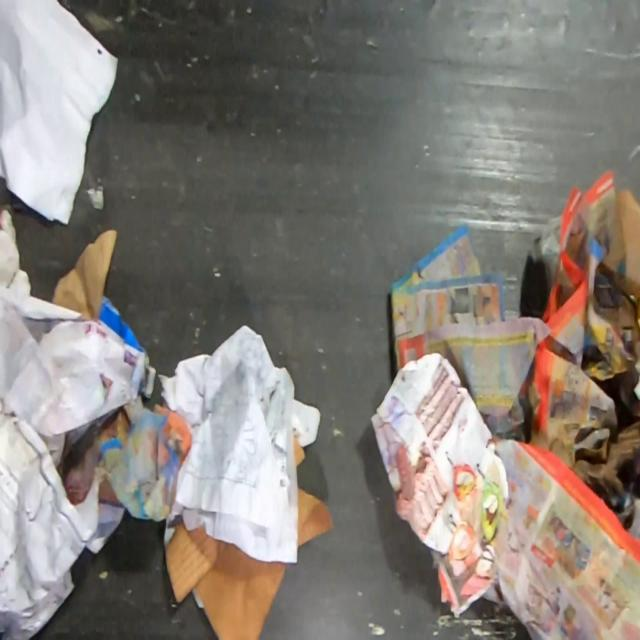cardboard: (162, 519, 290, 640), (598, 184, 640, 329), (569, 419, 640, 496), (296, 486, 336, 547), (292, 434, 307, 467)
soft_plastic: (368, 351, 511, 564)
